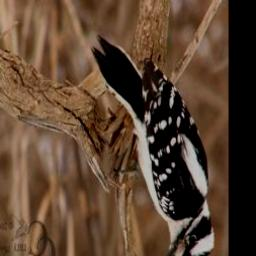Woodpecker: (90, 29, 217, 256)
